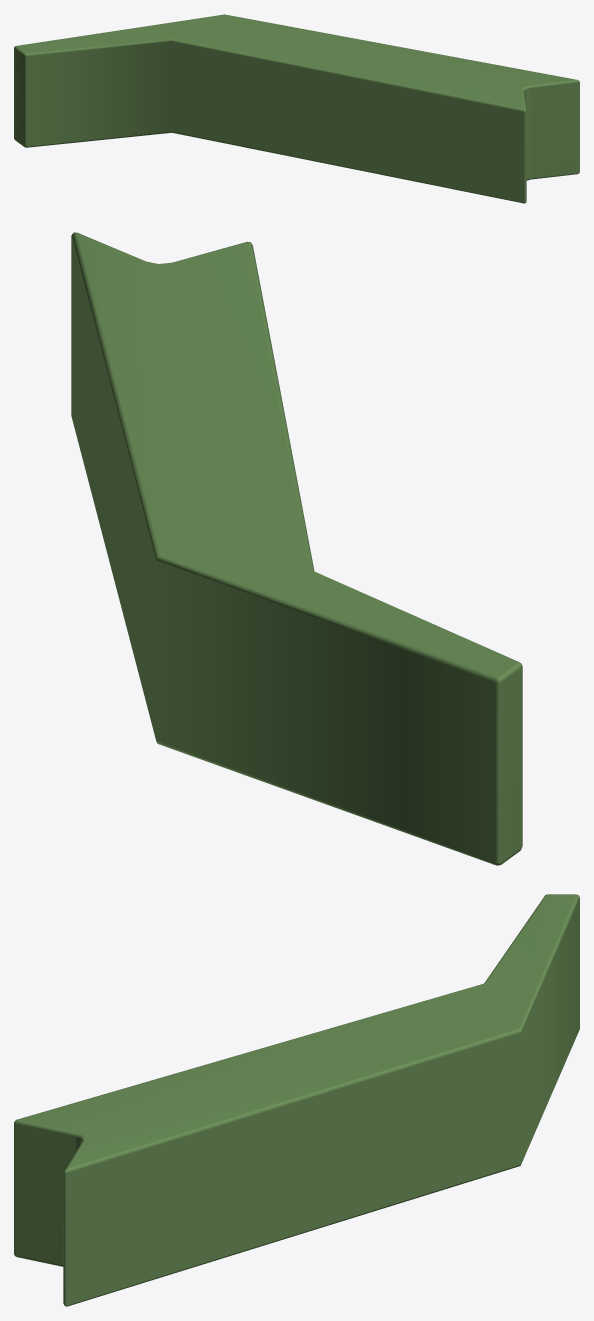
The model's file is FlipperBorder.fbx.
The picture shows the model from 3 angles, top to bottom: view 1: azimuth 30°, elevation 25°; view 2: azimuth 150°, elevation 25°; view 3: azimuth 270°, elevation 25°; orthographic projection. The views are drawn at different scales.
Parts seen in each view (by area): view 1: FlipperBorder; view 2: FlipperBorder; view 3: FlipperBorder.
Boxes of the visible parts, <box> form: FlipperBorder: <box>14,14,579,203</box>; FlipperBorder: <box>71,232,522,865</box>; FlipperBorder: <box>14,894,579,1306</box>.
Size of the model in its own units: 0.4044 by 0.0936 by 0.3485.
